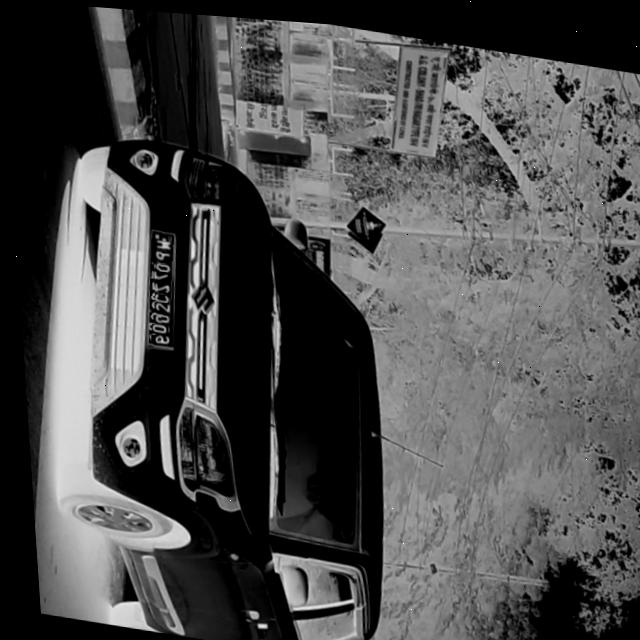0: (145, 321, 163, 331), (150, 260, 166, 270), (147, 311, 163, 321)
2: (148, 300, 165, 311)
7: (147, 269, 166, 280)
9: (144, 331, 162, 342)
C: (148, 291, 164, 301)
IND: (155, 232, 170, 242)
Indian_registered: (142, 228, 171, 347)
M: (150, 238, 167, 249)
P: (149, 248, 168, 259)
Z: (148, 280, 166, 291)
